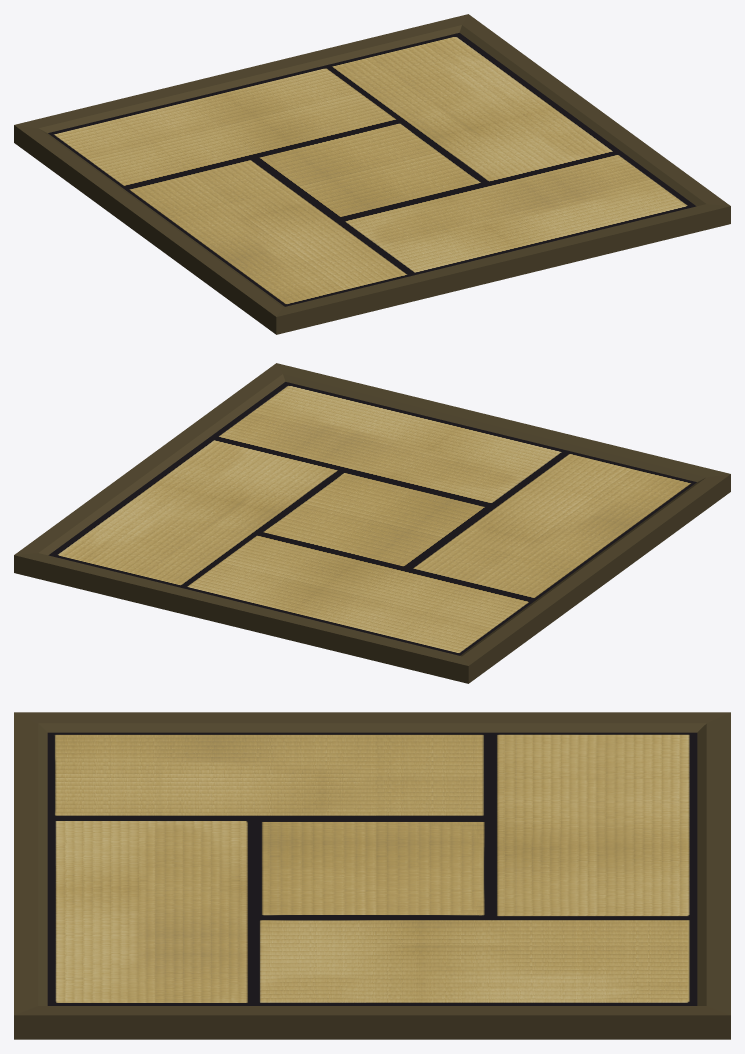
Rendered from Raven_Mat.fbx.
The picture shows the model from 3 angles, top to bottom: view 1: azimuth 30°, elevation 25°; view 2: azimuth 150°, elevation 25°; view 3: azimuth 270°, elevation 25°; orthographic projection. The views are drawn at different scales.
Parts seen in each view (by area): view 1: Cube; view 2: Cube; view 3: Cube.
Boxes of the visible parts, x1,y1,x2,y2 form: Cube: [14, 14, 730, 334]; Cube: [14, 363, 730, 683]; Cube: [14, 712, 730, 1039].
Size of the model in its own units: 426 by 16 by 426.
2 materials, 1 textured.
